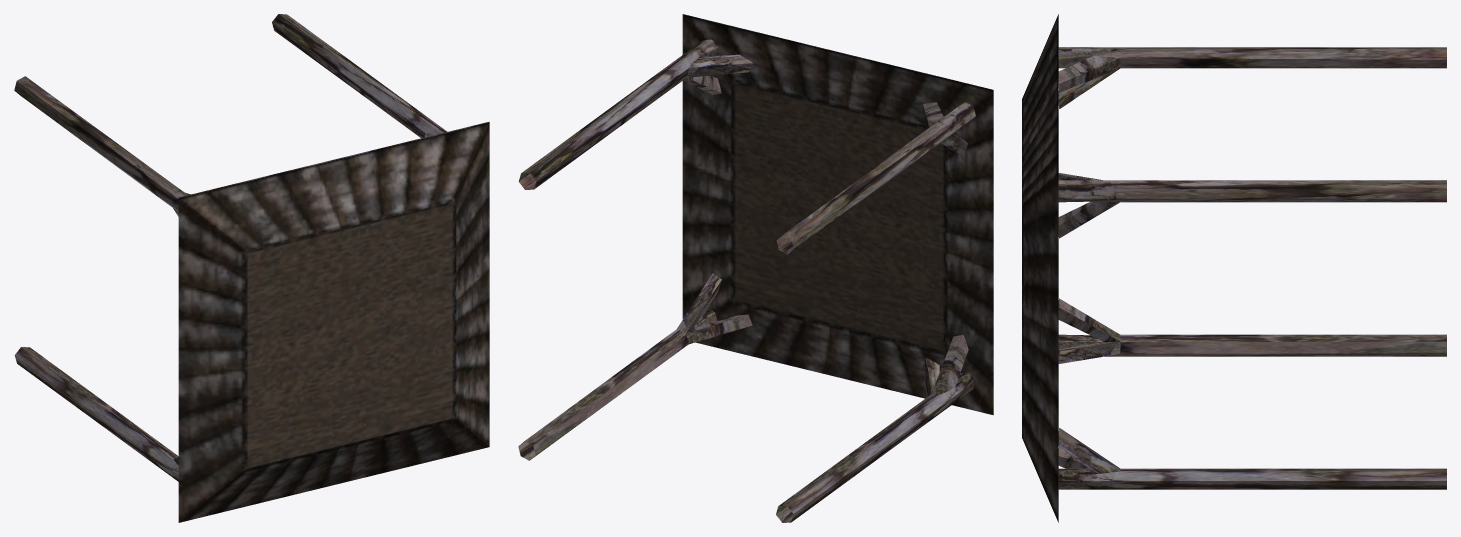
File: pav.obj
3 renders of one model, left to right at view 1: azimuth 30°, elevation 25°; view 2: azimuth 150°, elevation 25°; view 3: azimuth 270°, elevation 25°, orthographic. The views are drawn at different scales.
Visible parts, largest first — view 1: pavillion1_Cylinder.005; view 2: pavillion1_Cylinder.005; view 3: pavillion1_Cylinder.005.
Boxes of the visible parts, left/top/right/bottom form: pavillion1_Cylinder.005: left=14, top=14, right=489, bottom=522; pavillion1_Cylinder.005: left=518, top=14, right=993, bottom=522; pavillion1_Cylinder.005: left=1022, top=14, right=1446, bottom=522.
Bounding box in the file's own units: 1.88 × 1.88 × 2.09.
